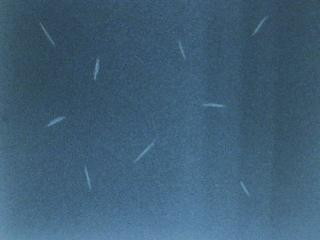scratch: (36, 18, 61, 65), (131, 138, 160, 165), (172, 34, 192, 67), (248, 11, 271, 39), (78, 158, 95, 193), (42, 110, 73, 129), (196, 98, 230, 113), (88, 55, 106, 82), (237, 174, 253, 200)
